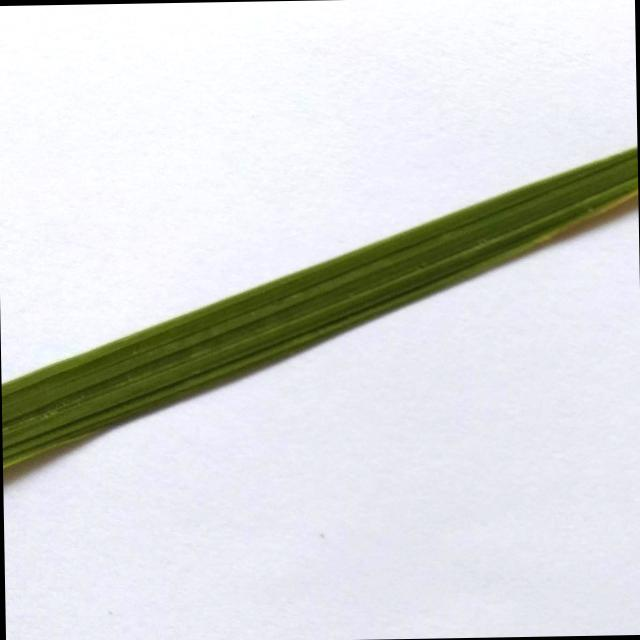Rice_Healthy: (1, 147, 638, 467)
